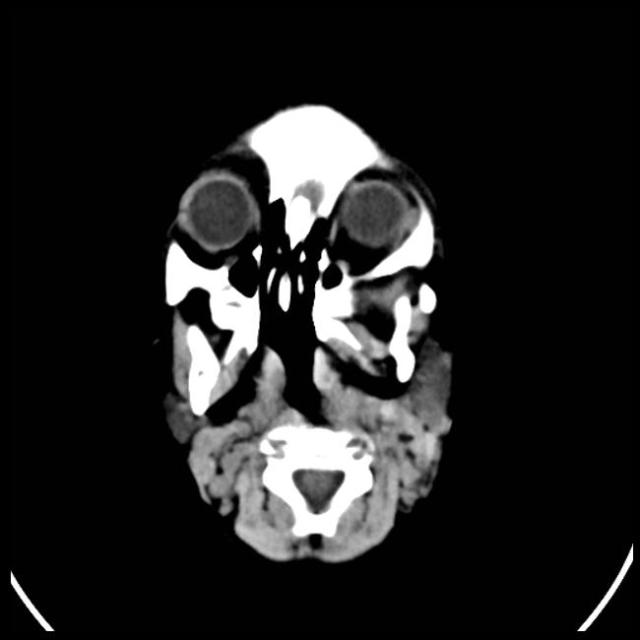lesion: (152, 99, 464, 569)
